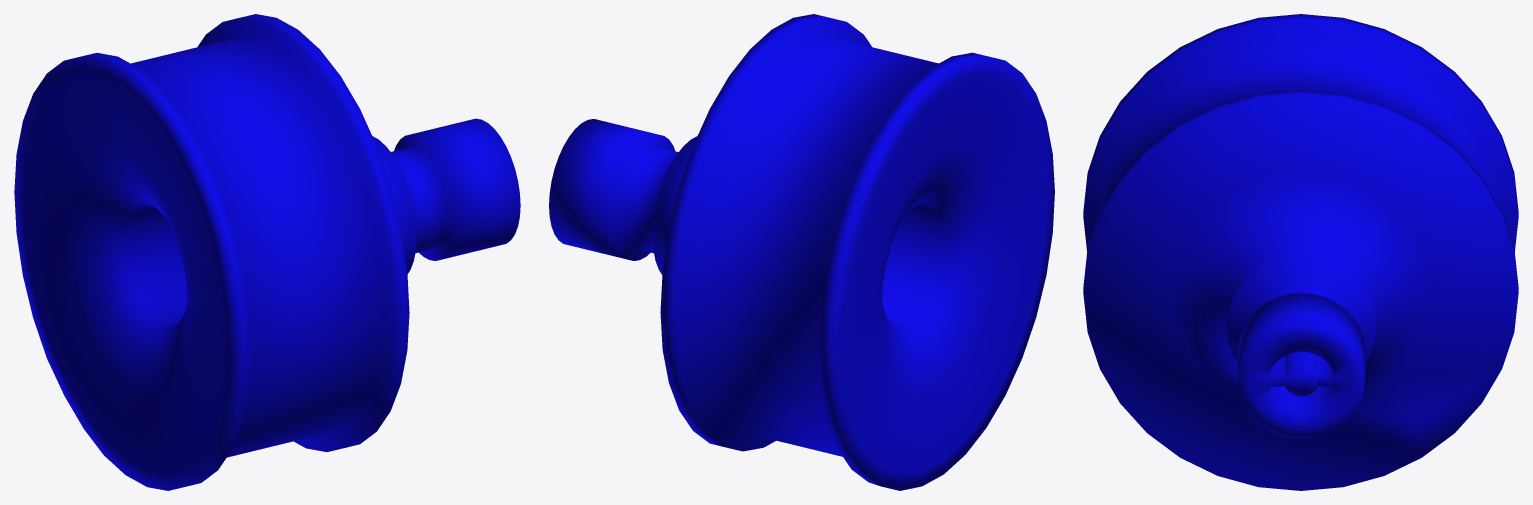
Rendered from RearWheel.glb.
3 renders of one model, left to right at view 1: azimuth 30°, elevation 25°; view 2: azimuth 150°, elevation 25°; view 3: azimuth 270°, elevation 25°, orthographic. The views are drawn at different scales.
Visible parts, largest first — view 1: REAR_WHEEL; view 2: REAR_WHEEL; view 3: REAR_WHEEL.
Boxes of the visible parts, left/top/right/bottom form: REAR_WHEEL: left=14, top=14, right=520, bottom=490; REAR_WHEEL: left=549, top=14, right=1054, bottom=490; REAR_WHEEL: left=1083, top=14, right=1518, bottom=490.
Bounding box in the file's own units: 5.83 × 6.19 × 6.18.
